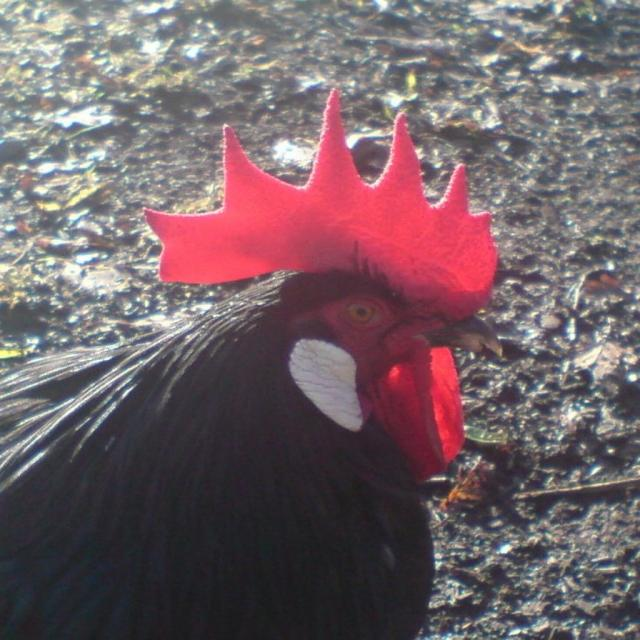Chicken: (63, 110, 516, 640)
